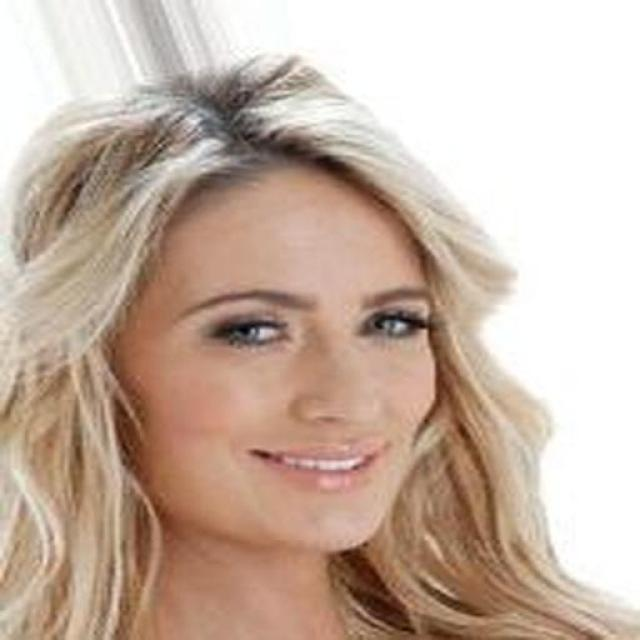bareface: (58, 114, 432, 556)
